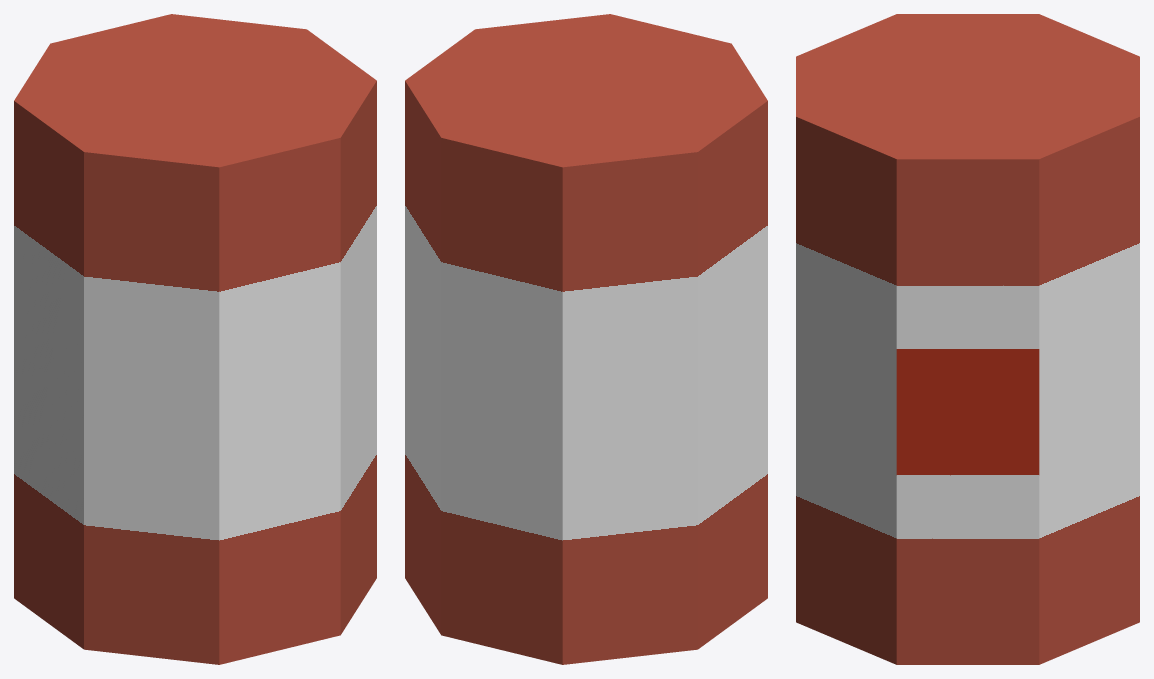
File: ExplosiveBarrel.fbx
3 views of the same model, side by side, from view 1: azimuth 30°, elevation 25°; view 2: azimuth 150°, elevation 25°; view 3: azimuth 270°, elevation 25° (orthographic).
Parts seen in each view (by area): view 1: ExplosiveBarrel; view 2: ExplosiveBarrel; view 3: ExplosiveBarrel.
Part boxes in pixels (left/top/right/bottom): ExplosiveBarrel: left=14, top=14, right=376, bottom=664; ExplosiveBarrel: left=405, top=14, right=767, bottom=664; ExplosiveBarrel: left=796, top=14, right=1139, bottom=664.
Size of the model in its own units: 185 by 300 by 185.
